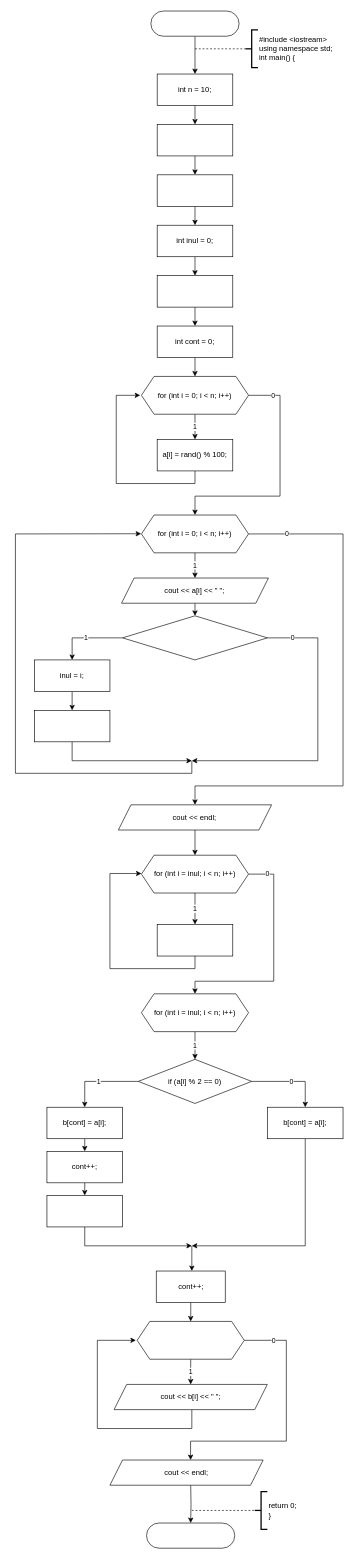
Image size: 359x1559. Some labels were removed from this diagram. Here are the shapes that lost their labels. From the top down, the centre of each, then its label:
(194,23): Запуск
(195,140): int a[100] = {};
(195,190): int b[100] = {};
(195,291): bool f = false;
(194,637): if ((a[i] == 0) && (f == false))
(72,726): f = true;
(195,940): a[i] = a[i + 1];
(84,1211): b[cont] = a[i - 1] + 2;
(190,1340): for (int i = 0; i < cont; i++)
(190,1535): Конец
